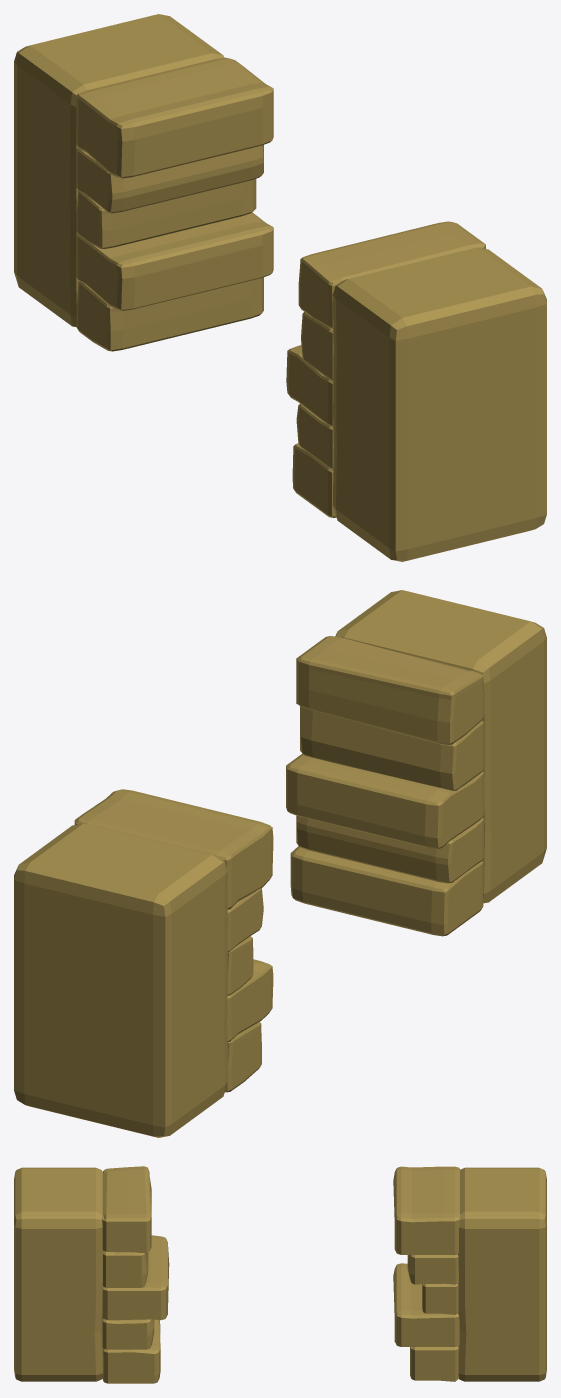
File: Rear_Castle_Trimmings_Resized.fbx
The picture shows the model from 3 angles, top to bottom: view 1: azimuth 30°, elevation 25°; view 2: azimuth 150°, elevation 25°; view 3: azimuth 270°, elevation 25°; orthographic projection. The views are drawn at different scales.
Parts seen in each view (by area): view 1: polySurface31; view 2: polySurface31; view 3: polySurface31.
Part boxes in pixels (bbox=[...]): polySurface31: bbox=[14, 14, 546, 561]; polySurface31: bbox=[14, 590, 546, 1137]; polySurface31: bbox=[14, 1166, 546, 1383].
Bounding box in the file's own units: 111 × 165 × 469.
